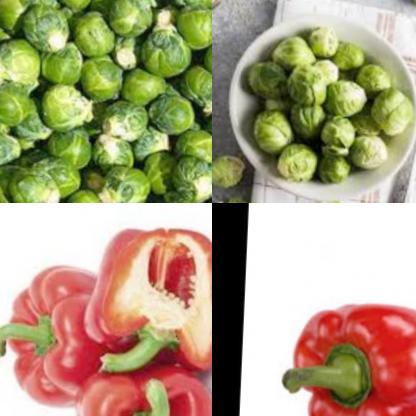bell pepper: (79, 213, 212, 376), (275, 285, 416, 416), (0, 254, 104, 415), (69, 350, 212, 416)
brus capusta: (0, 0, 212, 203), (249, 15, 414, 188), (212, 138, 259, 187), (310, 186, 349, 203), (212, 195, 261, 203)
